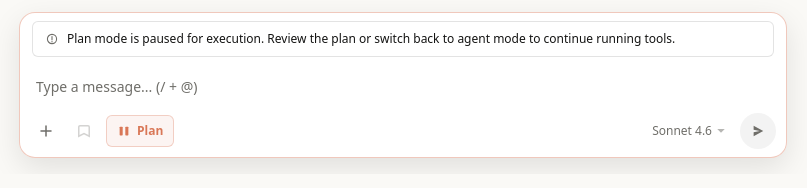
Test case: Composer plan-mode refuse-affordance › renders the affordance text when text matches a discovery skill in plan mode
Type "/council-plan-aura" into the text box with placeholder "Type a message... (/ + @)" at (403, 89), box 32,71 -> 774,107
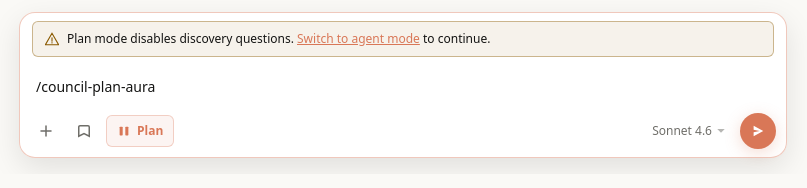
Expected: the message "Plan mode disables discovery questions. Switch to agent mode to continue." is shown, 32,21 -> 774,57
Expected: the text "Plan mode disables discovery questions." is shown, 67,30 -> 297,47
